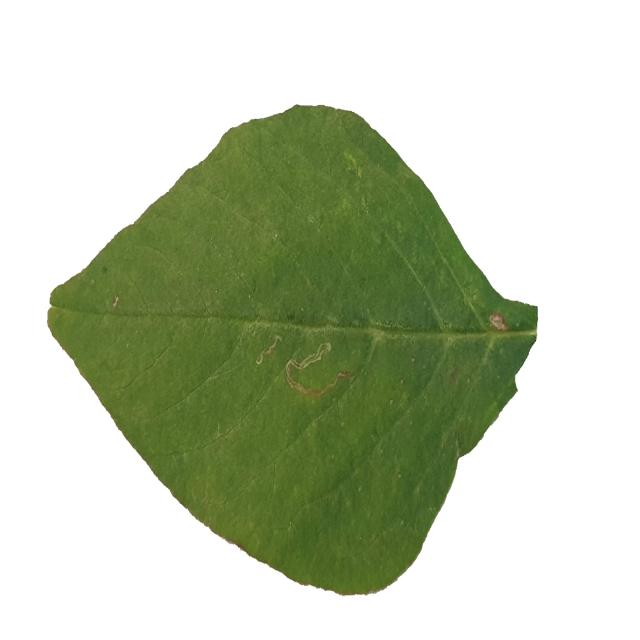Medicinal-Arive Dantu: (47, 107, 539, 595)
